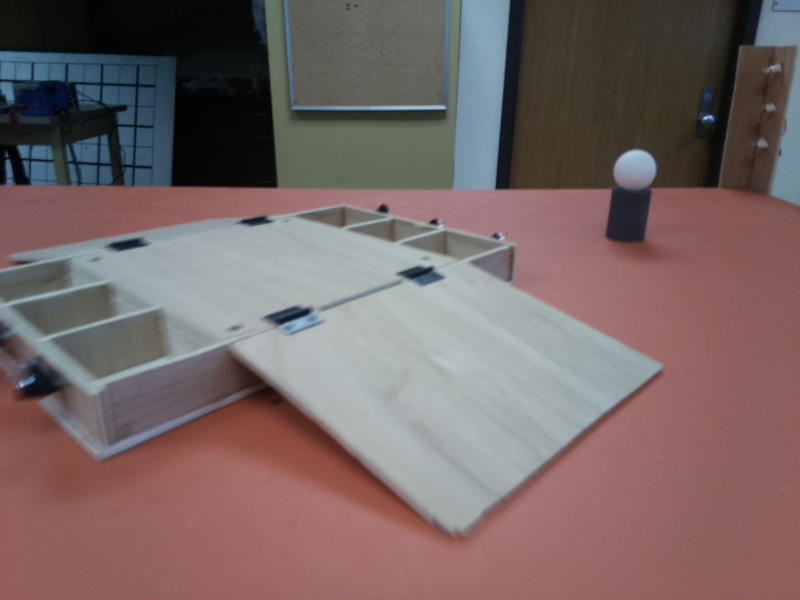corner: (731, 48, 786, 199)
obstacle: (604, 147, 658, 247)
side: (1, 297, 129, 447)
slope: (224, 296, 662, 538)
